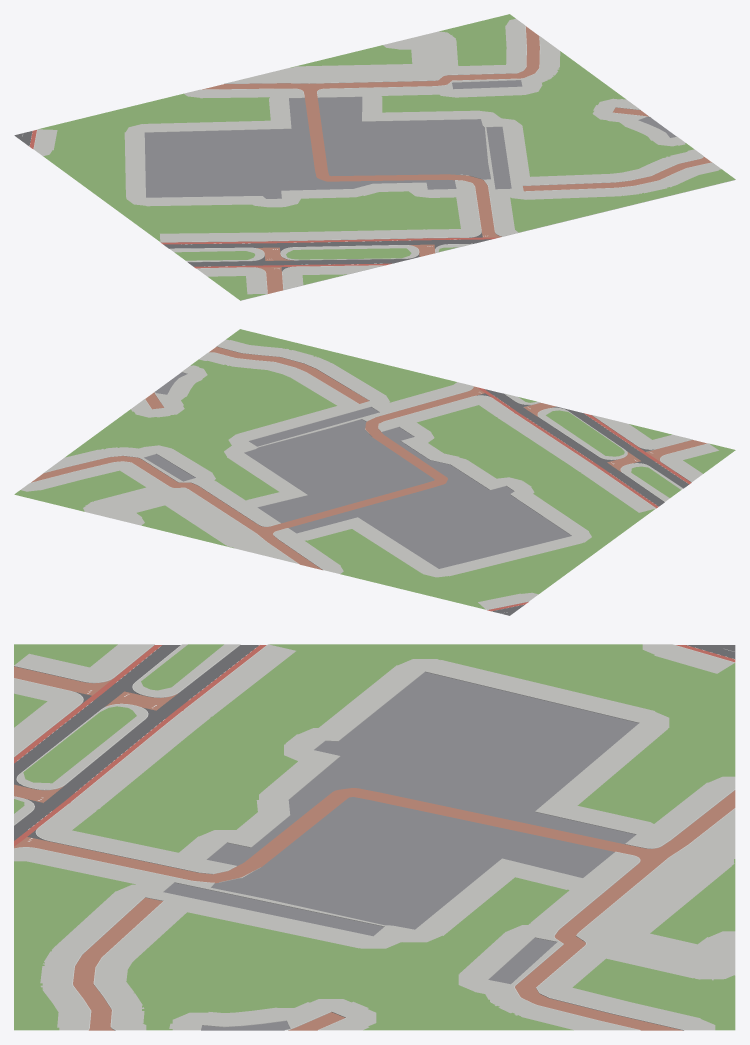
File: ground_6_13.glb
3 renders of one model, top to bottom at view 1: azimuth 30°, elevation 25°; view 2: azimuth 150°, elevation 25°; view 3: azimuth 270°, elevation 25°, orthographic. The views are drawn at different scales.
Parts seen in each view (by area): view 1: ground_6_13; view 2: ground_6_13; view 3: ground_6_13.
Boxes of the visible parts, x1=… form: ground_6_13: x1=14, y1=14, x2=735, y2=300; ground_6_13: x1=14, y1=329, x2=735, y2=615; ground_6_13: x1=14, y1=644, x2=735, y2=1030.
Bounding box in the file's own units: 200 × 0.12 × 158.
